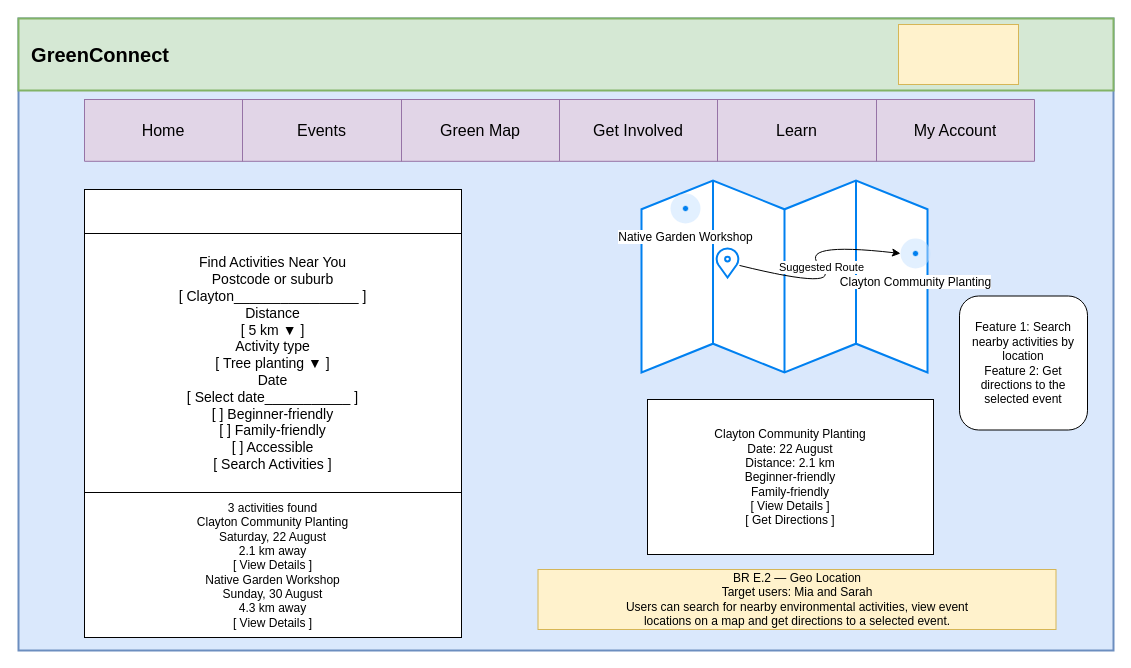
The diagram is 1131 pixels wide and 668 high, and some of its shapes have lost their labels. The shapes that lost their labels are listed below. From the top down, each one's box as (x1, y1, x2, y2) in pixels, then its label:
(898, 24, 1018, 84): Login/Register
(84, 188, 462, 234): Search and Filter Panel
(714, 246, 740, 278): You are here
(640, 179, 928, 373): MAP
